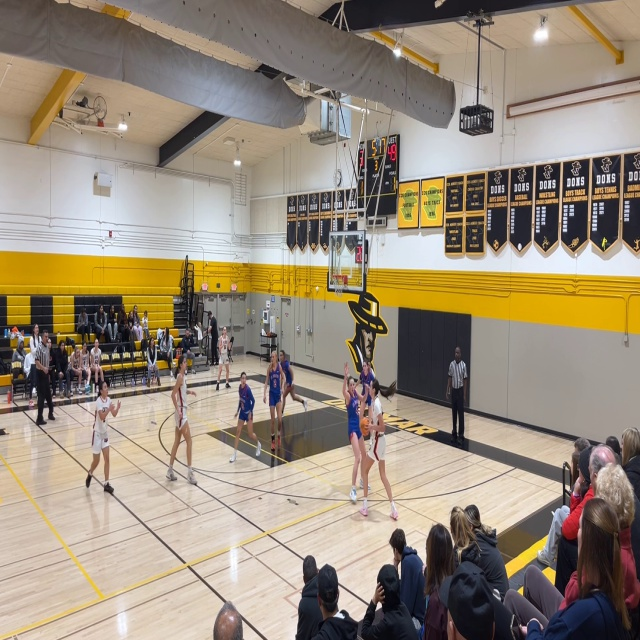Basketball: (360, 417, 370, 437)
